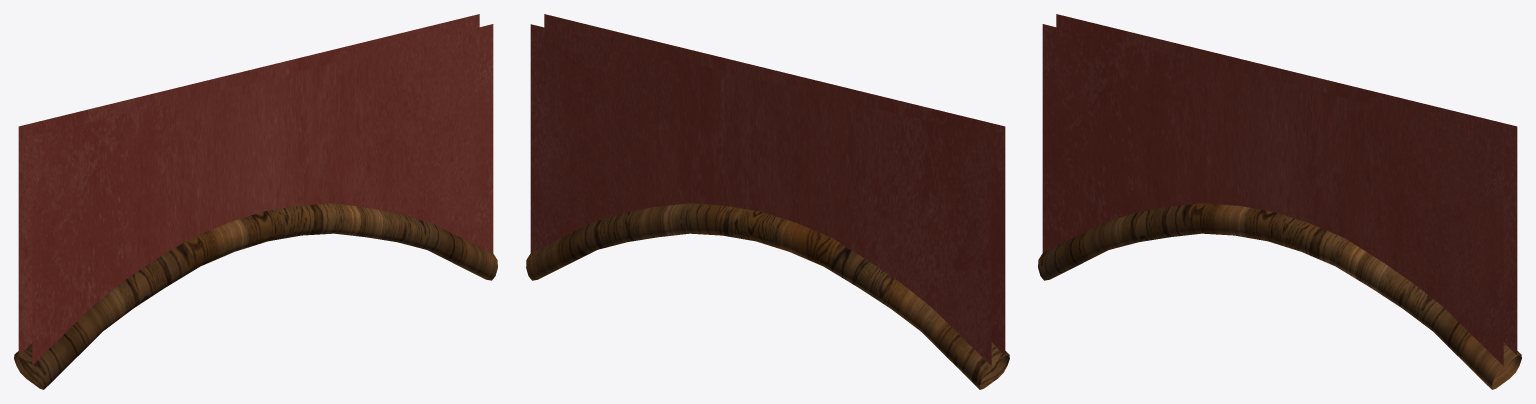
File: OpenDoor_02.fbx
3 views of the same model, side by side, from view 1: azimuth 30°, elevation 25°; view 2: azimuth 150°, elevation 25°; view 3: azimuth 330°, elevation 25° (orthographic).
Visible parts, largest first — view 1: OpenDoor_02; view 2: OpenDoor_02; view 3: OpenDoor_02.
Part boxes in pixels (box(x1,y1,x2,y2)): OpenDoor_02: box(14, 14, 497, 389); OpenDoor_02: box(526, 14, 1009, 389); OpenDoor_02: box(1038, 14, 1521, 389).
Size of the model in its own units: 200 by 105 by 20.9.
Materials: 1 (1 with a texture image).
